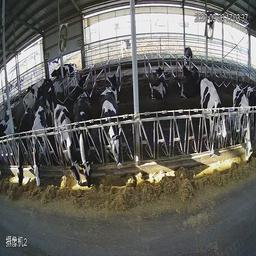cow: (94, 79, 131, 183), (68, 84, 96, 203), (48, 101, 80, 202), (196, 71, 228, 161), (233, 78, 254, 176), (29, 102, 48, 203), (16, 101, 32, 200), (173, 55, 197, 106), (147, 61, 170, 104), (29, 73, 58, 103), (55, 55, 82, 83)
